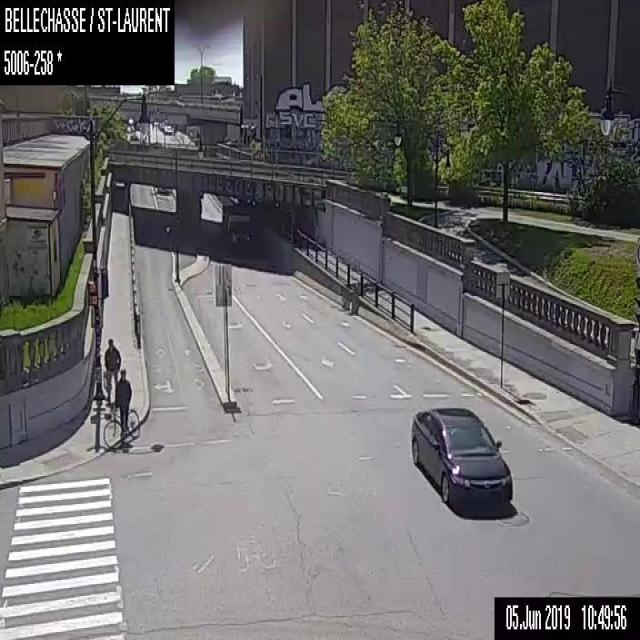cyclist: (102, 366, 139, 451)
pedestrian: (102, 337, 122, 407)
vehicle: (410, 407, 512, 508), (221, 203, 252, 249)
